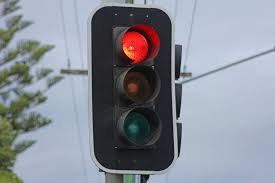red: (86, 4, 178, 175), (113, 24, 162, 150)
